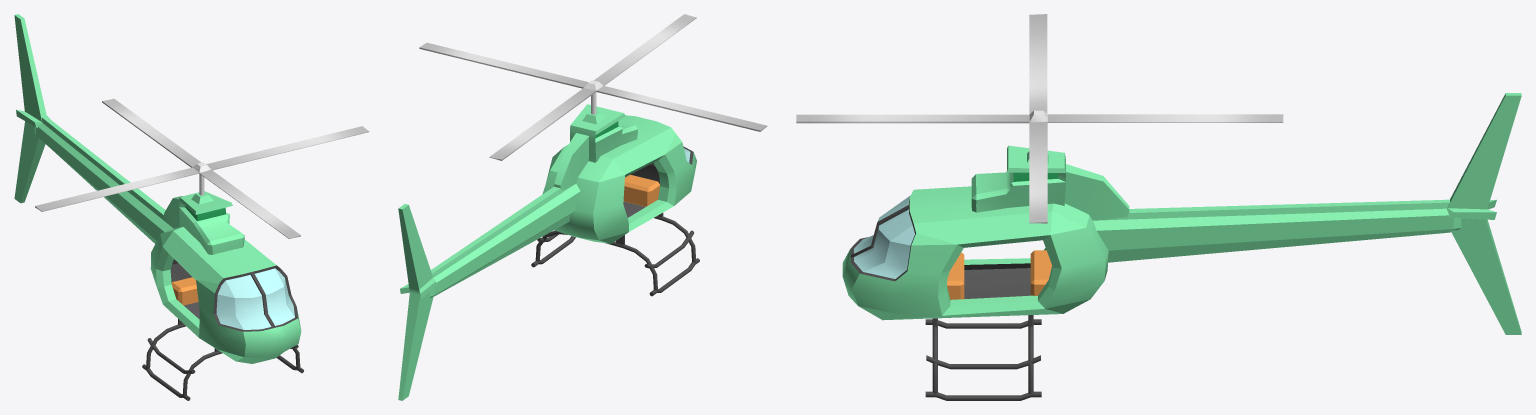
Rendered from helicopter.fbx.
The picture shows the model from 3 angles, left to right: view 1: azimuth 30°, elevation 25°; view 2: azimuth 150°, elevation 25°; view 3: azimuth 270°, elevation 25°; orthographic projection. The views are drawn at different scales.
Visible parts, largest first — view 1: body, arm; view 2: body, arm; view 3: body, arm.
Boxes of the visible parts, x1,y1,x2,y2 form: body: (14,14,303,400); arm: (35,98,369,238); body: (398,92,699,400); arm: (419,14,767,160); body: (842,93,1521,400); arm: (796,14,1283,223).
Size of the model in its own units: 147 by 89.21 by 217.
1 material, 1 textured.
